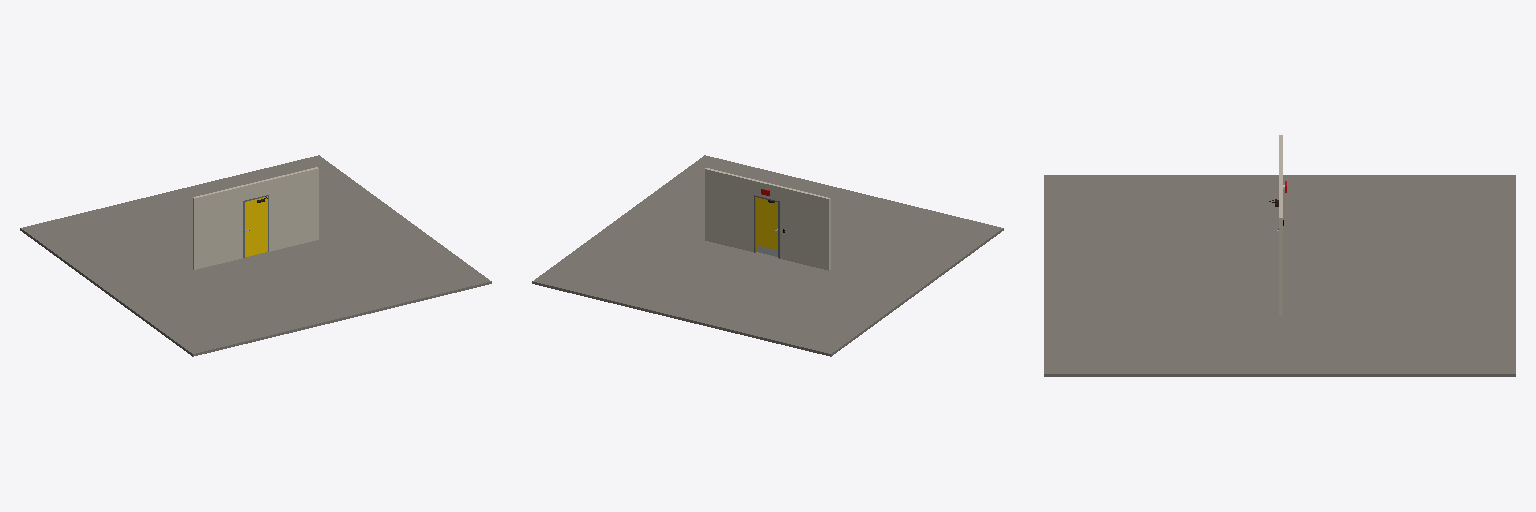
The robot description file, URDF, robot "db0185_swing_single_full":
<?xml version="1.0" ?>
<robot xmlns:doorbench="https://github.com/adamraudonis/DoorBench/schema/urdf-ext" name="db0185_swing_single_full">
  <link name="world_env">
    <visual name="floor_vis">
      <origin xyz="0 0 -0.05" rpy="0 0 0"/>
      <geometry>
        <box size="12 12 0.1"/>
      </geometry>
      <material name="mat_floor"/>
    </visual>
    <collision name="floor_col">
      <origin xyz="0 0 -0.05" rpy="0 0 0"/>
      <geometry>
        <box size="12 12 0.1"/>
      </geometry>
    </collision>
    <visual name="wall_left_vis">
      <origin xyz="-1.52025 0.0285 1.3735" rpy="0 0 0"/>
      <geometry>
        <box size="1.9595 0.115 2.747"/>
      </geometry>
      <material name="mat_wall"/>
    </visual>
    <collision name="wall_left_col">
      <origin xyz="-1.52025 0.0285 1.3735" rpy="0 0 0"/>
      <geometry>
        <box size="1.9595 0.115 2.747"/>
      </geometry>
    </collision>
    <visual name="wall_right_vis">
      <origin xyz="1.50525 0.0285 1.3735" rpy="0 0 0"/>
      <geometry>
        <box size="1.9895 0.115 2.747"/>
      </geometry>
      <material name="mat_wall"/>
    </visual>
    <collision name="wall_right_col">
      <origin xyz="1.50525 0.0285 1.3735" rpy="0 0 0"/>
      <geometry>
        <box size="1.9895 0.115 2.747"/>
      </geometry>
    </collision>
    <visual name="wall_header_vis">
      <origin xyz="-0.015 0.0285 2.487" rpy="0 0 0"/>
      <geometry>
        <box size="1.051 0.115 0.52"/>
      </geometry>
      <material name="mat_wall"/>
    </visual>
    <collision name="wall_header_col">
      <origin xyz="-0.015 0.0285 2.487" rpy="0 0 0"/>
      <geometry>
        <box size="1.051 0.115 0.52"/>
      </geometry>
    </collision>
    <visual name="hinge_0_jamb_vis">
      <origin xyz="0.4575 -0.029 0.259" rpy="3.141593 0 3.141593"/>
      <geometry>
        <mesh filename="../../hardware/hinge_jamb_e1d088f8dc.obj"/>
      </geometry>
      <material name="mat_hinge"/>
    </visual>
    <visual name="hinge_1_jamb_vis">
      <origin xyz="0.4575 -0.029 1.076" rpy="3.141593 0 3.141593"/>
      <geometry>
        <mesh filename="../../hardware/hinge_jamb_e1d088f8dc.obj"/>
      </geometry>
      <material name="mat_hinge"/>
    </visual>
    <visual name="hinge_2_jamb_vis">
      <origin xyz="0.4575 -0.029 1.963" rpy="3.141593 0 3.141593"/>
      <geometry>
        <mesh filename="../../hardware/hinge_jamb_e1d088f8dc.obj"/>
      </geometry>
      <material name="mat_hinge"/>
    </visual>
    <visual name="leaf_maglock_body_vis">
      <origin xyz="-0.1565 0.057 2.082" rpy="0 0 0"/>
      <geometry>
        <box size="0.25 0.05 0.04"/>
      </geometry>
      <material name="mat_maglock"/>
    </visual>
    <collision name="leaf_maglock_body_col">
      <origin xyz="-0.1565 0.057 2.082" rpy="0 0 0"/>
      <geometry>
        <box size="0.25 0.05 0.04"/>
      </geometry>
    </collision>
    <visual name="leaf_maglock_bracket_vis">
      <origin xyz="-0.1565 0.057 2.1245" rpy="0 0 0"/>
      <geometry>
        <box size="0.18 0.05 0.045"/>
      </geometry>
      <material name="mat_maglock"/>
    </visual>
    <visual name="jamb_hinge_vis">
      <origin xyz="0.4855 0.0285 1.0735" rpy="0 0 0"/>
      <geometry>
        <box size="0.05 0.115 2.147"/>
      </geometry>
      <material name="mat_frame"/>
    </visual>
    <collision name="jamb_hinge_col">
      <origin xyz="0.4855 0.0285 1.0735" rpy="0 0 0"/>
      <geometry>
        <box size="0.05 0.115 2.147"/>
      </geometry>
    </collision>
    <visual name="strike_1040_wall_n_vis">
      <origin xyz="-0.5005 0.04775 1.04" rpy="0 0 0"/>
      <geometry>
        <box size="0.08 0.0765 0.0366"/>
      </geometry>
      <material name="mat_frame"/>
    </visual>
    <collision name="strike_1040_wall_n_col">
      <origin xyz="-0.5005 0.04775 1.04" rpy="0 0 0"/>
      <geometry>
        <box size="0.08 0.0765 0.0366"/>
      </geometry>
    </collision>
    <visual name="strike_1040_wall_p_vis">
      <origin xyz="-0.5005 -0.0175 1.04" rpy="0 0 0"/>
      <geometry>
        <box size="0.08 0.016 0.0366"/>
      </geometry>
      <material name="mat_frame"/>
    </visual>
    <collision name="strike_1040_wall_p_col">
      <origin xyz="-0.5005 -0.0175 1.04" rpy="0 0 0"/>
      <geometry>
        <box size="0.08 0.016 0.0366"/>
      </geometry>
    </collision>
    <visual name="strike_1040_ramp_vis">
      <origin xyz="-0.503782 -0.018312 1.04" rpy="0 0 -0.588003"/>
      <geometry>
        <box size="0.08 0.036056 0.0366"/>
      </geometry>
      <material name="mat_frame"/>
    </visual>
    <collision name="strike_1040_ramp_col">
      <origin xyz="-0.503782 -0.018312 1.04" rpy="0 0 -0.588003"/>
      <geometry>
        <box size="0.08 0.036056 0.0366"/>
      </geometry>
    </collision>
    <visual name="strike_1040_back_vis">
      <origin xyz="-0.512 0 1.04" rpy="0 0 0"/>
      <geometry>
        <box size="0.057 0.019 0.0366"/>
      </geometry>
      <material name="mat_frame"/>
    </visual>
    <collision name="strike_1040_back_col">
      <origin xyz="-0.512 0 1.04" rpy="0 0 0"/>
      <geometry>
        <box size="0.057 0.019 0.0366"/>
      </geometry>
    </collision>
    <visual name="jamb_strike_0_vis">
      <origin xyz="-0.5005 0.0285 0.51085" rpy="0 0 0"/>
      <geometry>
        <box size="0.08 0.115 1.0217"/>
      </geometry>
      <material name="mat_frame"/>
    </visual>
    <collision name="jamb_strike_0_col">
      <origin xyz="-0.5005 0.0285 0.51085" rpy="0 0 0"/>
      <geometry>
        <box size="0.08 0.115 1.0217"/>
      </geometry>
    </collision>
    <visual name="jamb_strike_1_vis">
      <origin xyz="-0.5005 0.0285 1.60265" rpy="0 0 0"/>
      <geometry>
        <box size="0.08 0.115 1.0887"/>
      </geometry>
      <material name="mat_frame"/>
    </visual>
    <collision name="jamb_strike_1_col">
      <origin xyz="-0.5005 0.0285 1.60265" rpy="0 0 0"/>
      <geometry>
        <box size="0.08 0.115 1.0887"/>
      </geometry>
    </collision>
    <visual name="jamb_head_vis">
      <origin xyz="-0.015 0.0285 2.172" rpy="0 0 0"/>
      <geometry>
        <box size="1.051 0.115 0.05"/>
      </geometry>
      <material name="mat_frame"/>
    </visual>
    <collision name="jamb_head_col">
      <origin xyz="-0.015 0.0285 2.172" rpy="0 0 0"/>
      <geometry>
        <box size="1.051 0.115 0.05"/>
      </geometry>
    </collision>
    <visual name="head_stud_vis">
      <origin xyz="-0.015 0.0285 2.212" rpy="0 0 0"/>
      <geometry>
        <box size="1.051 0.115 0.03"/>
      </geometry>
      <material name="mat_wall"/>
    </visual>
    <collision name="head_stud_col">
      <origin xyz="-0.015 0.0285 2.212" rpy="0 0 0"/>
      <geometry>
        <box size="1.051 0.115 0.03"/>
      </geometry>
    </collision>
    <visual name="stop_hinge_vis">
      <origin xyz="0.455 0.0385 1.0735" rpy="0 0 0"/>
      <geometry>
        <box size="0.011 0.032 2.147"/>
      </geometry>
      <material name="mat_frame"/>
    </visual>
    <collision name="stop_hinge_col">
      <origin xyz="0.455 0.0385 1.0735" rpy="0 0 0"/>
      <geometry>
        <box size="0.011 0.032 2.147"/>
      </geometry>
    </collision>
    <visual name="stop_strike_vis">
      <origin xyz="-0.455 0.0385 1.0735" rpy="0 0 0"/>
      <geometry>
        <box size="0.011 0.032 2.147"/>
      </geometry>
      <material name="mat_frame"/>
    </visual>
    <collision name="stop_strike_col">
      <origin xyz="-0.455 0.0385 1.0735" rpy="0 0 0"/>
      <geometry>
        <box size="0.011 0.032 2.147"/>
      </geometry>
    </collision>
    <visual name="stop_head_vis">
      <origin xyz="0 0.0385 2.1415" rpy="0 0 0"/>
      <geometry>
        <box size="0.921 0.032 0.011"/>
      </geometry>
      <material name="mat_frame"/>
    </visual>
    <collision name="stop_head_col">
      <origin xyz="0 0.0385 2.1415" rpy="0 0 0"/>
      <geometry>
        <box size="0.921 0.032 0.011"/>
      </geometry>
    </collision>
    <visual name="seal_hinge_vis">
      <origin xyz="0.4575 0.0245 1.0735" rpy="0 0 0"/>
      <geometry>
        <box size="0.008 0.005 2.147"/>
      </geometry>
      <material name="mat_seal"/>
    </visual>
    <visual name="seal_strike_vis">
      <origin xyz="-0.4575 0.0245 1.0735" rpy="0 0 0"/>
      <geometry>
        <box size="0.008 0.005 2.147"/>
      </geometry>
      <material name="mat_seal"/>
    </visual>
    <visual name="seal_head_vis">
      <origin xyz="0 0.0245 2.135" rpy="0 0 0"/>
      <geometry>
        <box size="0.881 0.005 0.016"/>
      </geometry>
      <material name="mat_seal"/>
    </visual>
    <visual name="closer_bracket_vis">
      <origin xyz="0.3605 -0.041 2.177" rpy="0 0 0"/>
      <geometry>
        <box size="0.06 0.024 0.028"/>
      </geometry>
      <material name="mat_closer"/>
    </visual>
    <visual name="exit_sign_vis">
      <origin xyz="0 0.15 2.447" rpy="0 0 0"/>
      <geometry>
        <mesh filename="../../hardware/exit_sign_a6449bfa2c.obj"/>
      </geometry>
      <material name="mat_exit_sign"/>
    </visual>
    <visual name="exit_sign_bracket_vis">
      <origin xyz="0 0.1055 2.447" rpy="0 0 0"/>
      <geometry>
        <box size="0.1155 0.04 0.07"/>
      </geometry>
      <material name="mat_sign_bracket"/>
    </visual>
    <visual name="rex_plate_vis">
      <origin xyz="-0.7105 0.089 1.1" rpy="0 0 0"/>
      <geometry>
        <box size="0.08 0.006 0.12"/>
      </geometry>
      <material name="mat_wallreader"/>
    </visual>
  </link>
  <link name="leaf">
    <inertial>
      <origin xyz="-0.424543 0.016517 1.232244" rpy="0 0 0"/>
      <mass value="70.406291"/>
      <inertia ixx="34.135509418" ixy="0.128403154" ixz="-1.604640355" iyy="38.452992132" iyz="0.81482159" izz="4.473050478"/>
    </inertial>
    <visual name="leaf_slab_vis">
      <origin xyz="-0.457 0.029 1.076" rpy="0 0 0"/>
      <geometry>
        <box size="0.914 0.044 2.134"/>
      </geometry>
      <material name="mat_leaf"/>
    </visual>
    <collision name="leaf_slab_col">
      <origin xyz="-0.457 0.029 1.076" rpy="0 0 0"/>
      <geometry>
        <box size="0.914 0.044 2.134"/>
      </geometry>
    </collision>
    <visual name="hinge_0_vis">
      <origin xyz="0 0 0.259" rpy="3.141593 0 3.141593"/>
      <geometry>
        <mesh filename="../../hardware/hinge_e22b26c0c1.obj"/>
      </geometry>
      <material name="mat_hinge"/>
    </visual>
    <visual name="hinge_1_vis">
      <origin xyz="0 0 1.076" rpy="3.141593 0 3.141593"/>
      <geometry>
        <mesh filename="../../hardware/hinge_e22b26c0c1.obj"/>
      </geometry>
      <material name="mat_hinge"/>
    </visual>
    <visual name="hinge_2_vis">
      <origin xyz="0 0 1.963" rpy="3.141593 0 3.141593"/>
      <geometry>
        <mesh filename="../../hardware/hinge_e22b26c0c1.obj"/>
      </geometry>
      <material name="mat_hinge"/>
    </visual>
    <visual name="leaf_latch_bolt_faceplate_vis">
      <origin xyz="-0.9134 0.029 1.04" rpy="0 0 0"/>
      <geometry>
        <box size="0.0012 0.028 0.0566"/>
      </geometry>
      <material name="mat_bolt"/>
    </visual>
    <visual name="leaf_maglock_armature_vis">
      <origin xyz="-0.614 0.056 2.082" rpy="0 0 0"/>
      <geometry>
        <box size="0.18 0.01 0.04"/>
      </geometry>
      <material name="mat_maglock"/>
    </visual>
    <visual name="closer_body_vis">
      <origin xyz="-0.297 0.007 2.054" rpy="-1.570796 0 3.141593"/>
      <geometry>
        <mesh filename="../../hardware/closer_body_fdc4667657.obj"/>
      </geometry>
      <material name="mat_closer"/>
    </visual>
    <collision name="closer_body_col_col">
      <origin xyz="-0.297 -0.043 2.054" rpy="0 0 0"/>
      <geometry>
        <box size="0.29 0.1 0.07"/>
      </geometry>
    </collision>
    <visual name="closer_pinion_shaft_vis">
      <origin xyz="-0.297 -0.043 2.1155" rpy="0 0 0"/>
      <geometry>
        <cylinder radius="0.008" length="0.123"/>
      </geometry>
      <material name="mat_closer"/>
    </visual>
    <visual name="kick_plate_p_vis">
      <origin xyz="-0.457 0.0518 0.144" rpy="0 0 0"/>
      <geometry>
        <box size="0.854 0.0016 0.25"/>
      </geometry>
      <material name="mat_kick"/>
    </visual>
  </link>
  <link name="leaf_handle">
    <inertial>
      <origin xyz="0.028544 0 0" rpy="0 0 0"/>
      <mass value="0.978187"/>
      <inertia ixx="0.003604455" ixy="0" ixz="0" iyy="0.001772047" iyz="0" izz="0.005198299"/>
    </inertial>
    <visual name="leaf_handle_spindle_vis">
      <origin xyz="0 0 0" rpy="-1.570796 0 0"/>
      <geometry>
        <cylinder radius="0.006" length="0.06"/>
      </geometry>
      <material name="mat_op_nickel_satin"/>
    </visual>
    <visual name="leaf_handle_lever_n_vis">
      <origin xyz="0 -0.022 0" rpy="-1.570796 0 3.141593"/>
      <geometry>
        <mesh filename="../../hardware/lever_9f02b544cf.obj"/>
      </geometry>
      <material name="mat_op_nickel_satin"/>
    </visual>
    <collision name="leaf_handle_lever_col_n_col">
      <origin xyz="0.0625 -0.077 0" rpy="0 1.570796 0"/>
      <geometry>
        <cylinder radius="0.0095" length="0.106"/>
      </geometry>
    </collision>
    <collision name="leaf_handle_hub_col_n_col">
      <origin xyz="0 -0.052 0" rpy="-1.570796 0 0"/>
      <geometry>
        <cylinder radius="0.012" length="0.044"/>
      </geometry>
    </collision>
    <visual name="leaf_handle_lever_p_vis">
      <origin xyz="0 0.022 0" rpy="1.570796 0 3.141593"/>
      <geometry>
        <mesh filename="../../hardware/lever_9f02b544cf.obj"/>
      </geometry>
      <material name="mat_op_nickel_satin"/>
    </visual>
    <collision name="leaf_handle_lever_col_p_col">
      <origin xyz="0.0625 0.077 0" rpy="0 1.570796 0"/>
      <geometry>
        <cylinder radius="0.0095" length="0.106"/>
      </geometry>
    </collision>
    <collision name="leaf_handle_hub_col_p_col">
      <origin xyz="0 0.052 0" rpy="-1.570796 0 0"/>
      <geometry>
        <cylinder radius="0.012" length="0.044"/>
      </geometry>
    </collision>
  </link>
  <link name="leaf_latch_bolt">
    <inertial>
      <origin xyz="0.0055 0 0" rpy="0 0 0"/>
      <mass value="0.074627"/>
      <inertia ixx="0.000002271" ixy="0" ixz="0" iyy="0.000013255" iyz="0" izz="0.000013255"/>
    </inertial>
    <visual name="leaf_latch_bolt_capsule_vis">
      <origin xyz="0.0055 0 0" rpy="0 -1.570796 0"/>
      <geometry>
        <cylinder radius="0.008" length="0.033"/>
      </geometry>
      <material name="mat_bolt"/>
    </visual>
    <collision name="leaf_latch_bolt_capsule_col">
      <origin xyz="0.0055 0 0" rpy="0 -1.570796 0"/>
      <geometry>
        <cylinder radius="0.008" length="0.033"/>
      </geometry>
    </collision>
  </link>
  <link name="closer_arm_main">
    <inertial>
      <origin xyz="0.14 0 0" rpy="0 0 0"/>
      <mass value="0.12096"/>
      <inertia ixx="0.000003588" ixy="0" ixz="0" iyy="0.00079128" iyz="0" izz="0.000792852"/>
    </inertial>
    <visual name="closer_arm_main_geom_vis">
      <origin xyz="0.14 0 0" rpy="0 0 0"/>
      <geometry>
        <box size="0.28 0.016 0.01"/>
      </geometry>
      <material name="mat_closer"/>
    </visual>
  </link>
  <link name="closer_arm_fore">
    <inertial>
      <origin xyz="0.128088 0 0" rpy="0 0 0"/>
      <mass value="0.076531"/>
      <inertia ixx="0.000001771" ixy="0" ixz="0" iyy="0.000437665" iyz="0" izz="0.000438201"/>
    </inertial>
    <visual name="closer_arm_fore_geom_vis">
      <origin xyz="0.1125 0 0" rpy="0 0 0"/>
      <geometry>
        <box size="0.225 0.014 0.008"/>
      </geometry>
      <material name="mat_closer"/>
    </visual>
    <visual name="closer_fore_neck_vis">
      <origin xyz="0.2425 0 0" rpy="0 0 0"/>
      <geometry>
        <box size="0.035 0.006 0.006"/>
      </geometry>
      <material name="mat_closer"/>
    </visual>
    <visual name="closer_fore_pivot_vis">
      <origin xyz="0.26 0 0" rpy="0 0 0"/>
      <geometry>
        <cylinder radius="0.005" length="0.024"/>
      </geometry>
      <material name="mat_closer"/>
    </visual>
  </link>
  <link name="rex_button">
    <inertial>
      <origin xyz="0 0.004 0" rpy="0 0 0"/>
      <mass value="0.010053"/>
      <inertia ixx="0.000001059" ixy="0" ixz="0" iyy="0.000002011" iyz="0" izz="0.000001059"/>
    </inertial>
    <visual name="rex_button_geom_vis">
      <origin xyz="0 0.004 0" rpy="-1.570796 0 0"/>
      <geometry>
        <cylinder radius="0.02" length="0.008"/>
      </geometry>
      <material name="mat_rex"/>
    </visual>
    <collision name="rex_button_geom_col">
      <origin xyz="0 0.004 0" rpy="-1.570796 0 0"/>
      <geometry>
        <cylinder radius="0.02" length="0.008"/>
      </geometry>
    </collision>
  </link>
  <joint name="leaf_hinge" type="revolute">
    <origin xyz="0.4575 -0.029 0" rpy="0 0 0"/>
    <parent link="world_env"/>
    <child link="leaf"/>
    <axis xyz="0 0 1"/>
    <limit lower="0" upper="1.745329" effort="2000" velocity="10"/>
    <dynamics damping="12.268966" friction="2.074269"/>
    <doorbench:spring stiffness="12.528677" springref="-2.635554" note="tau = -stiffness*(q - springref); not native URDF"/>
    <doorbench:closer damping_closing="90" damping_opening="12" backcheck_angle="1.22" backcheck_damping="60"/>
  </joint>
  <joint name="leaf_handle_hinge" type="revolute">
    <origin xyz="-0.844 0.029 1.04" rpy="0 0 0"/>
    <parent link="leaf"/>
    <child link="leaf_handle"/>
    <axis xyz="0 1 0"/>
    <limit lower="0" upper="0.96" effort="2000" velocity="10"/>
    <dynamics damping="0.245624" friction="0.048"/>
    <doorbench:spring stiffness="1.2" springref="-0.458333" note="tau = -stiffness*(q - springref); not native URDF"/>
  </joint>
  <joint name="leaf_latch_bolt_slide" type="prismatic">
    <origin xyz="-0.914 0.029 1.04" rpy="0 0 0"/>
    <parent link="leaf"/>
    <child link="leaf_latch_bolt"/>
    <axis xyz="1 0 0"/>
    <limit lower="0" upper="0.019" effort="5000" velocity="10"/>
    <dynamics damping="2" friction="0.3"/>
    <doorbench:spring stiffness="600" springref="-0.01" note="tau = -stiffness*(q - springref); not native URDF"/>
    <mimic joint="leaf_handle_hinge" multiplier="0.020879" offset="0"/>
    <doorbench:coupling one_sided="true" note="MJCF uses a one-sided tendon (bolt may retract further, e.g. riding over the strike lip); mimic is bilateral"/>
  </joint>
  <joint name="closer_pinion" type="continuous">
    <origin xyz="-0.297 -0.043 2.177" rpy="0 0 -0.94274"/>
    <parent link="leaf"/>
    <child link="closer_arm_main"/>
    <axis xyz="0 0 1"/>
    <dynamics damping="0.01" friction="0"/>
  </joint>
  <joint name="closer_elbow" type="continuous">
    <origin xyz="0.28 0 0" rpy="0 0 2.376649"/>
    <parent link="closer_arm_main"/>
    <child link="closer_arm_fore"/>
    <axis xyz="0 0 1"/>
    <dynamics damping="0.01" friction="0"/>
  </joint>
  <joint name="rex_button_slide" type="prismatic">
    <origin xyz="-0.7105 0.092 1.1" rpy="0 0 0"/>
    <parent link="world_env"/>
    <child link="rex_button"/>
    <axis xyz="0 -1 0"/>
    <limit lower="0" upper="0.004" effort="5000" velocity="10"/>
    <dynamics damping="1" friction="0"/>
    <doorbench:spring stiffness="1500" springref="-0.004" note="tau = -stiffness*(q - springref); not native URDF"/>
  </joint>
  <material name="mat_bolt">
    <color rgba="0.85 0.66 0.3 1"/>
  </material>
  <material name="mat_closer">
    <color rgba="0.22 0.17 0.13 1"/>
  </material>
  <material name="mat_exit_sign">
    <color rgba="0.85 0.1 0.1 1"/>
  </material>
  <material name="mat_floor">
    <color rgba="0.55 0.53 0.5 1"/>
  </material>
  <material name="mat_frame">
    <color rgba="0.45 0.48 0.52 1"/>
  </material>
  <material name="mat_hinge">
    <color rgba="0.65 0.66 0.68 1"/>
  </material>
  <material name="mat_kick">
    <color rgba="0.75 0.76 0.77 1"/>
  </material>
  <material name="mat_leaf">
    <color rgba="0.95 0.8 0.05 1"/>
  </material>
  <material name="mat_maglock">
    <color rgba="0.22 0.17 0.13 1"/>
  </material>
  <material name="mat_op_nickel_satin">
    <color rgba="0.72 0.7 0.66 1"/>
  </material>
  <material name="mat_rex">
    <color rgba="0.1 0.6 0.2 1"/>
  </material>
  <material name="mat_seal">
    <color rgba="0.1 0.1 0.1 1"/>
  </material>
  <material name="mat_sign_bracket">
    <color rgba="0.8 0.81 0.83 1"/>
  </material>
  <material name="mat_wall">
    <color rgba="0.78 0.76 0.7 1"/>
  </material>
  <material name="mat_wallreader">
    <color rgba="0.05 0.05 0.05 1"/>
  </material>
  <doorbench:weld body1="leaf" body2="world" label="Maglock w/ REX button inside (fail-safe) (env releases on REX / badge / timer)" active="true"/>
  <doorbench:loop_closure body1="closer_arm_fore" body2="world" anchor="0.26 0 0" label="Closer forearm pinned to frame shoe"/>
</robot>

--- Facts derived from the render (not from the file) ---
3 views of the same robot in one strip: view 1: azimuth 30°, elevation 25°; view 2: azimuth 150°, elevation 25°; view 3: azimuth 270°, elevation 25° (orthographic).
Model db0185_swing_single_full with 7 links and 6 joints (2 revolute, 2 continuous, 2 prismatic), rooted at world_env, posed all joints at 0.
Links seen in each view (by area): view 1: world_env, leaf; view 2: world_env, leaf; view 3: world_env.
Boxes of the visible links, x1,y1,x2,y2 form: world_env: [20, 155, 491, 356]; leaf: [245, 196, 267, 256]; world_env: [532, 155, 1003, 356]; leaf: [756, 197, 777, 256]; world_env: [1044, 135, 1515, 376].
Size in the robot's own frame: 12 by 12 by 2.85 metres.
Meshes: 5 distinct files referenced, 10 mesh visuals loaded (5 OBJ).
